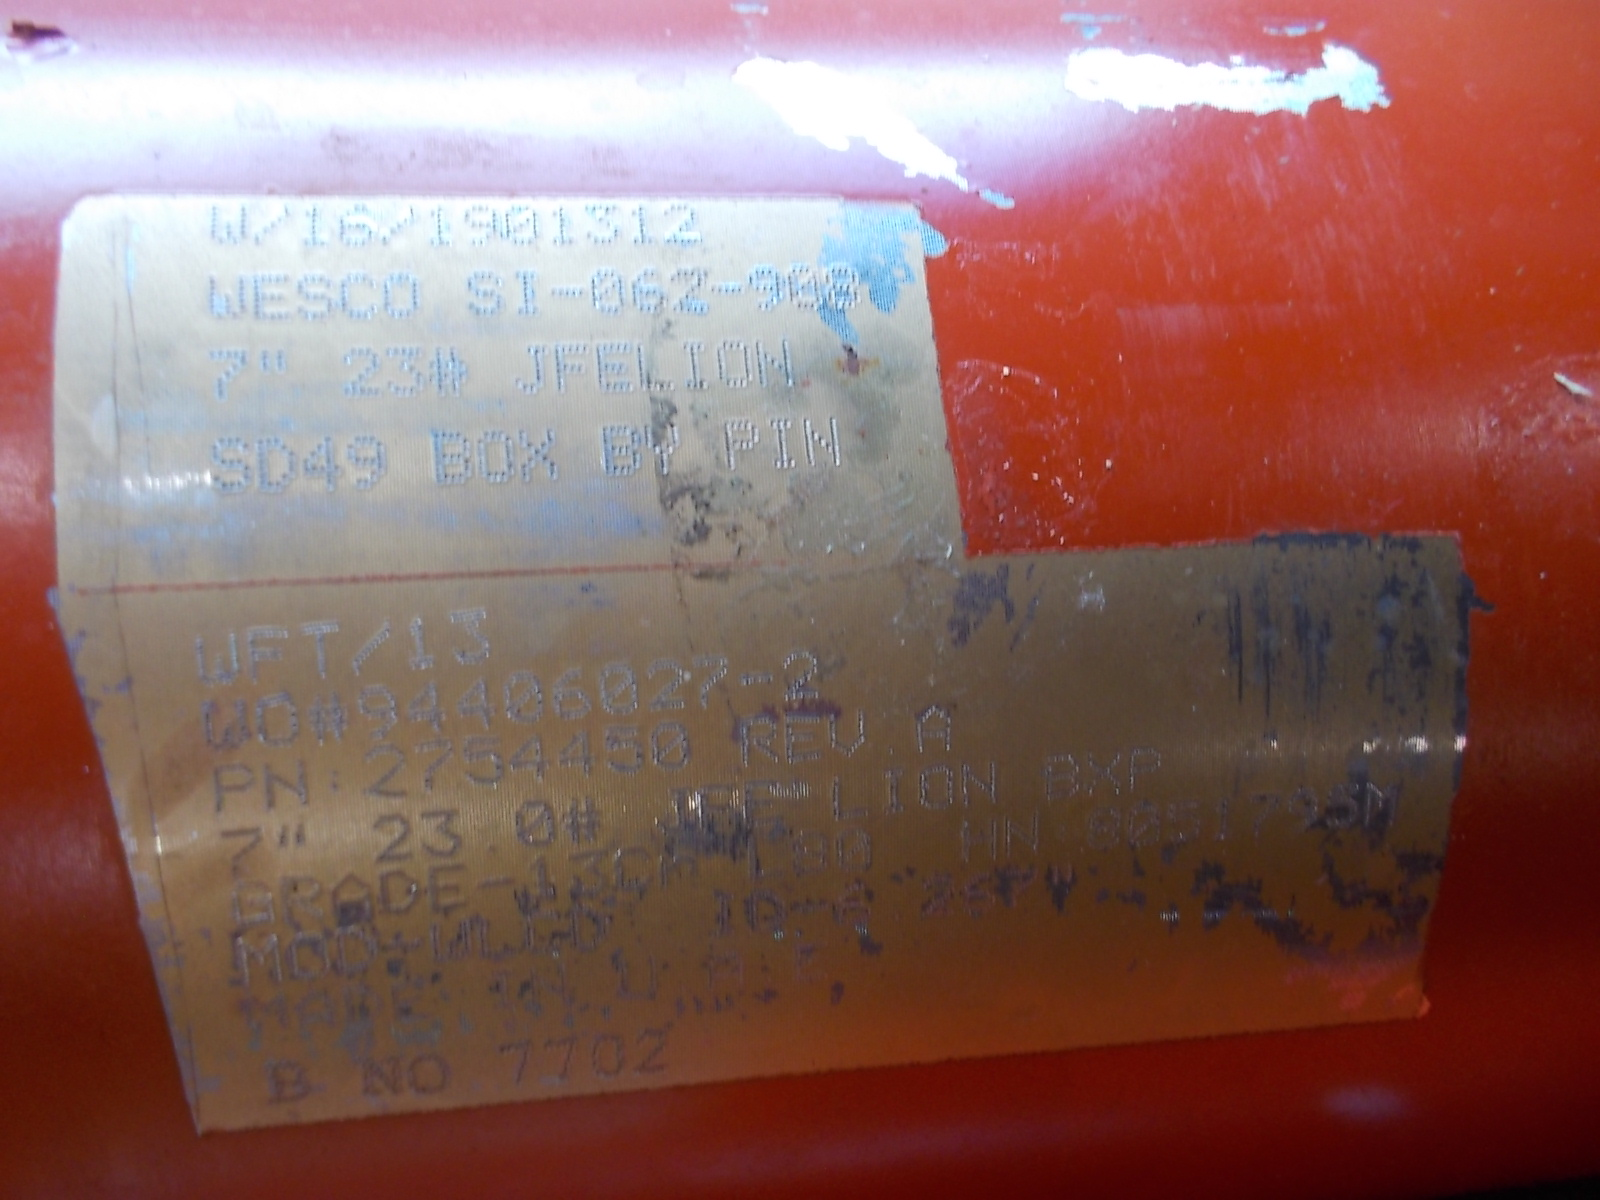character: (438, 592, 504, 674), (179, 626, 242, 693), (242, 613, 294, 693), (254, 750, 312, 821), (328, 338, 387, 406), (256, 1055, 319, 1118), (593, 413, 643, 492), (340, 432, 394, 500), (305, 679, 355, 753), (426, 424, 474, 499), (197, 342, 251, 408), (474, 421, 519, 499), (354, 741, 412, 802), (500, 664, 551, 734), (249, 431, 299, 502), (351, 608, 401, 678), (515, 420, 562, 494), (202, 689, 253, 756), (716, 412, 763, 483), (643, 652, 693, 718), (296, 613, 341, 684), (253, 689, 305, 753), (504, 729, 556, 792), (420, 799, 470, 863), (379, 268, 436, 325), (364, 807, 420, 863), (355, 679, 407, 740), (912, 695, 961, 758), (693, 647, 736, 718), (404, 1049, 464, 1100), (643, 413, 687, 483), (598, 652, 643, 721), (407, 674, 454, 740), (508, 793, 561, 850), (779, 649, 830, 707), (751, 334, 800, 395), (387, 337, 430, 406), (294, 270, 341, 332), (561, 787, 607, 850), (215, 826, 271, 879), (1322, 775, 1363, 846), (208, 760, 256, 821), (543, 1029, 591, 1089), (205, 436, 249, 502), (412, 735, 455, 802), (781, 705, 825, 769), (602, 721, 648, 783), (300, 431, 340, 500), (334, 924, 384, 979), (430, 337, 474, 400), (506, 340, 551, 403), (590, 337, 634, 400), (277, 871, 325, 929), (454, 674, 500, 734), (551, 333, 590, 403), (204, 270, 249, 330), (325, 871, 379, 921), (551, 664, 598, 721), (456, 735, 504, 792), (826, 257, 871, 318), (231, 932, 281, 984), (281, 932, 331, 984), (803, 407, 842, 475), (557, 725, 602, 783), (249, 267, 291, 330), (226, 879, 277, 929), (567, 903, 616, 955), (1036, 747, 1083, 802), (496, 1034, 543, 1089), (665, 192, 707, 253), (712, 334, 751, 400), (737, 711, 781, 769), (786, 255, 826, 318), (741, 779, 795, 826), (825, 705, 871, 760), (671, 337, 711, 401), (379, 865, 423, 921), (590, 263, 631, 323), (763, 412, 803, 475), (339, 265, 379, 325), (621, 195, 664, 252), (426, 861, 472, 913), (464, 267, 508, 321), (957, 756, 1002, 811), (459, 199, 499, 258), (1243, 788, 1283, 848), (1083, 745, 1125, 802), (632, 1021, 674, 1078), (401, 608, 436, 674), (826, 774, 873, 824), (747, 258, 787, 316), (631, 263, 671, 321), (1288, 778, 1322, 846), (499, 200, 540, 256), (648, 721, 693, 771), (249, 198, 294, 250), (671, 263, 711, 321), (379, 200, 421, 255), (1002, 809, 1043, 863), (1363, 775, 1405, 829), (357, 1054, 404, 1100), (540, 200, 585, 251), (636, 337, 671, 400), (509, 268, 551, 321), (1125, 745, 1167, 798), (1164, 800, 1206, 853), (335, 200, 374, 255), (566, 850, 607, 900), (585, 195, 621, 252), (430, 919, 472, 967), (1123, 803, 1163, 853), (297, 198, 331, 257), (791, 829, 837, 874), (208, 202, 249, 250), (655, 787, 695, 836), (918, 760, 957, 811), (421, 199, 456, 255), (957, 819, 1002, 863), (591, 1029, 630, 1076), (1083, 805, 1123, 853), (883, 760, 916, 817), (838, 829, 879, 874), (523, 852, 559, 899), (525, 911, 562, 955), (1209, 797, 1240, 846), (271, 818, 316, 850), (736, 667, 780, 695), (253, 345, 294, 374), (712, 274, 745, 309), (472, 870, 523, 891), (547, 280, 590, 303), (323, 761, 340, 790), (883, 747, 905, 759), (488, 837, 498, 856)
